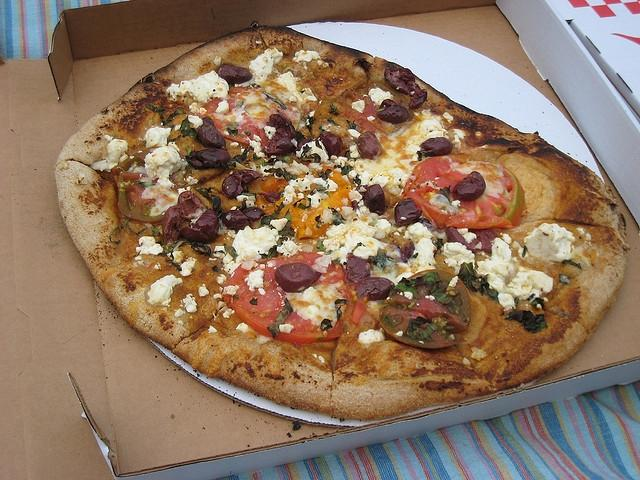tomato: (223, 252, 365, 344), (400, 156, 524, 229), (384, 284, 468, 334), (118, 171, 166, 224), (219, 112, 260, 148), (335, 80, 367, 104), (362, 96, 380, 118), (201, 98, 223, 113)
